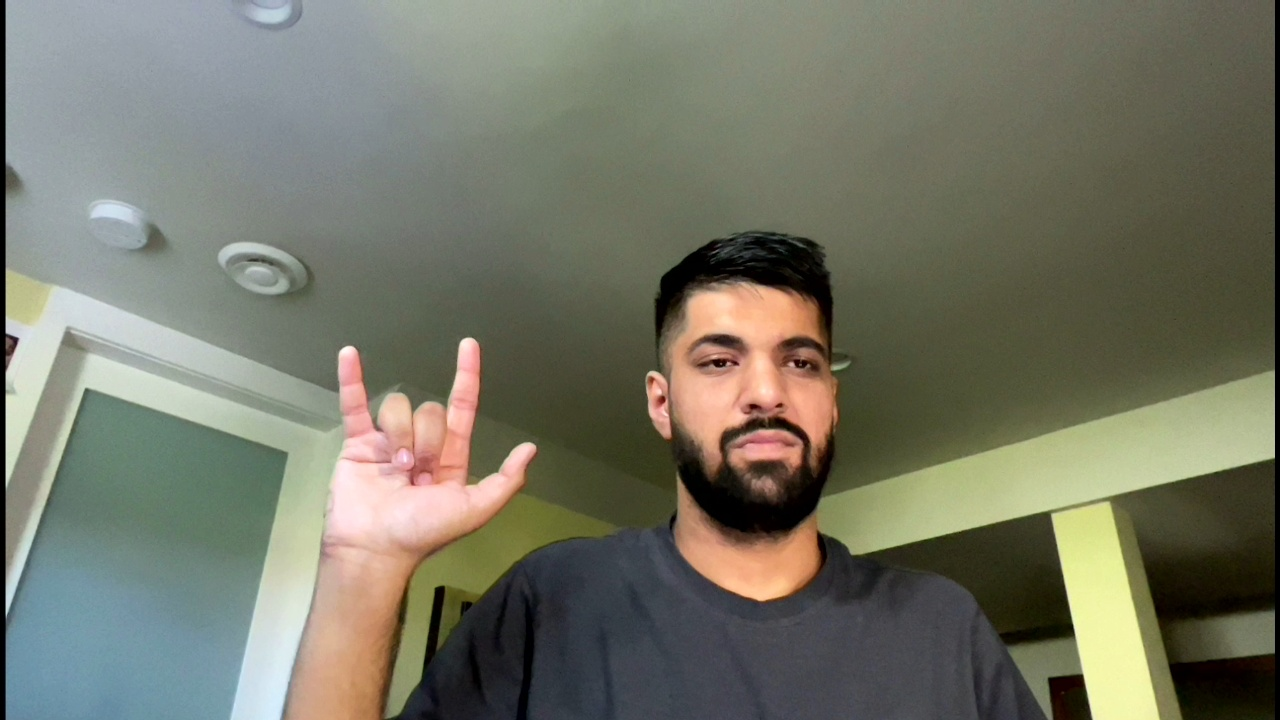HowYouDoing!: (303, 333, 544, 562)
